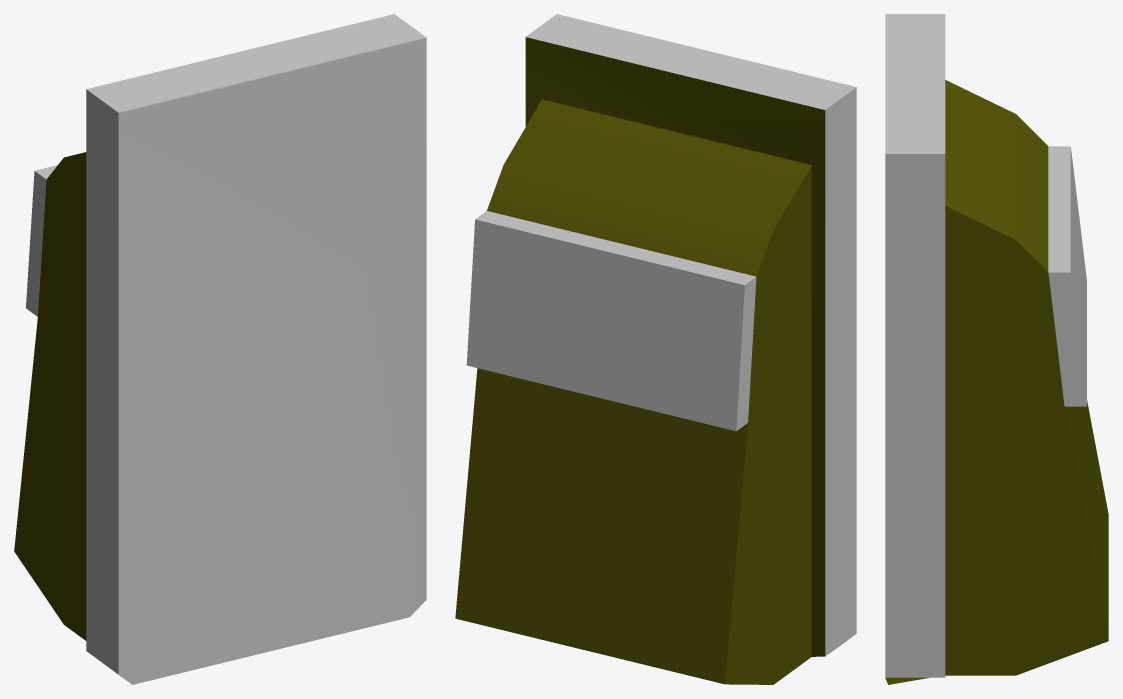
Rendered from rightFoot.obj.
The picture shows the model from 3 angles, left to right: view 1: azimuth 30°, elevation 25°; view 2: azimuth 150°, elevation 25°; view 3: azimuth 270°, elevation 25°; orthographic projection. The views are drawn at different scales.
Parts seen in each view (by area): view 1: 4_Toe.R_Cube.030; view 2: 4_Toe.R_Cube.030; view 3: 4_Toe.R_Cube.030.
Boxes of the visible parts, x1,y1,x2,y2 form: 4_Toe.R_Cube.030: (14, 14, 426, 684); 4_Toe.R_Cube.030: (455, 14, 856, 684); 4_Toe.R_Cube.030: (885, 14, 1108, 684).
Size of the model in its own units: 0.8514 by 1.52 by 0.5739.
